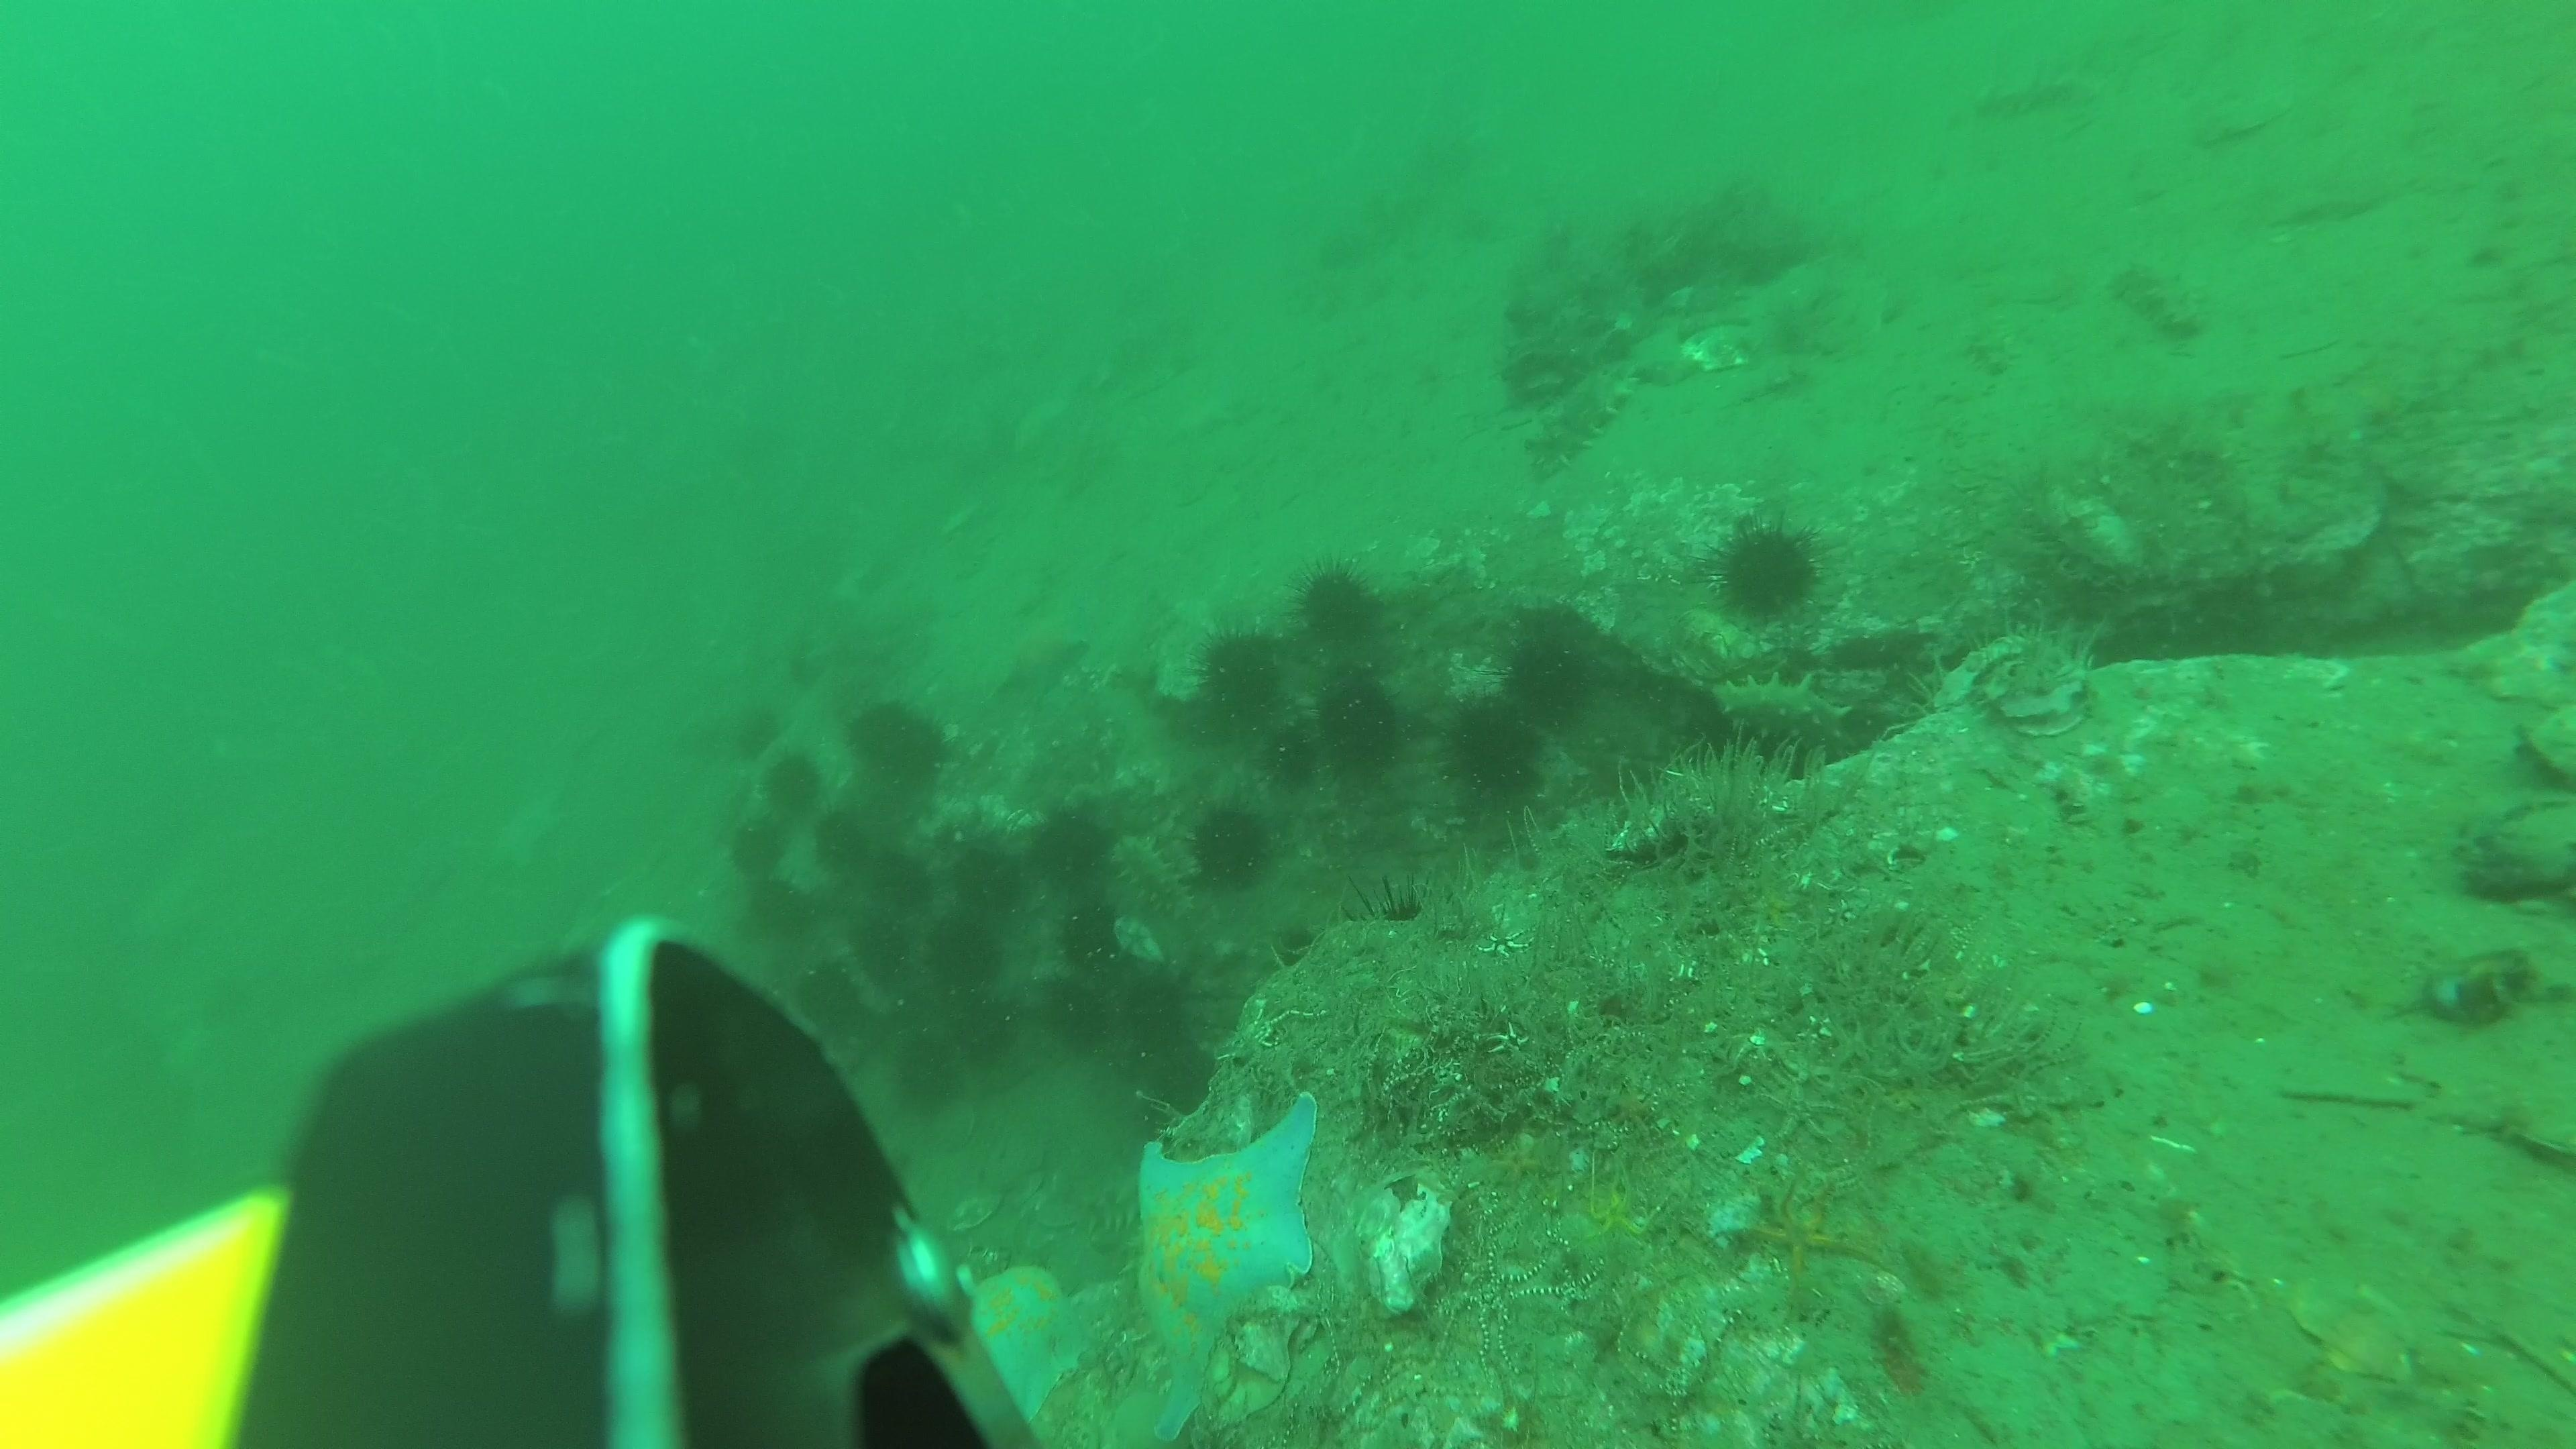echinus: (1566, 699, 1677, 809), (1711, 517, 1821, 621), (1445, 701, 1546, 809), (846, 694, 950, 794), (1194, 626, 1284, 736), (918, 978, 1016, 1079), (1502, 623, 1594, 725), (1316, 672, 1403, 777), (1108, 962, 1192, 1065), (1185, 800, 1274, 892), (1295, 557, 1384, 648), (1049, 961, 1131, 1054), (1031, 801, 1116, 890), (945, 835, 1024, 924), (888, 1028, 966, 1116), (925, 915, 1005, 1000), (791, 955, 870, 1040), (814, 810, 888, 897), (849, 909, 918, 994), (741, 876, 821, 947), (1056, 897, 1125, 970), (727, 817, 793, 886), (761, 747, 824, 816), (1263, 725, 1323, 791), (731, 699, 782, 761)
holothurian: (1711, 672, 1858, 771), (1525, 363, 1635, 479), (1108, 824, 1210, 931), (2111, 258, 2203, 345), (1973, 62, 2093, 122), (1497, 333, 1583, 410)
scallop: (2288, 1279, 2415, 1384), (1760, 260, 1886, 363), (1629, 313, 1752, 384), (2194, 81, 2291, 143), (2514, 706, 2576, 796), (1683, 318, 1755, 377), (943, 1184, 1001, 1237)
starfish: (1129, 1095, 1330, 1426), (922, 1253, 1095, 1433), (1736, 1173, 1886, 1286), (1468, 1118, 1573, 1196), (991, 623, 1088, 706), (1571, 1169, 1651, 1251)
